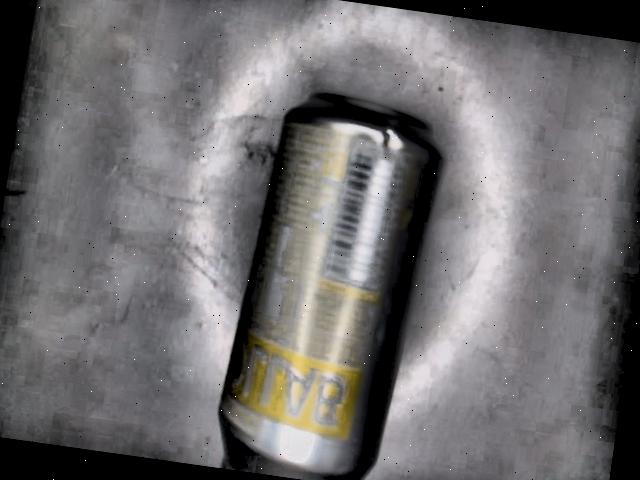Bottles: (217, 88, 446, 480)
